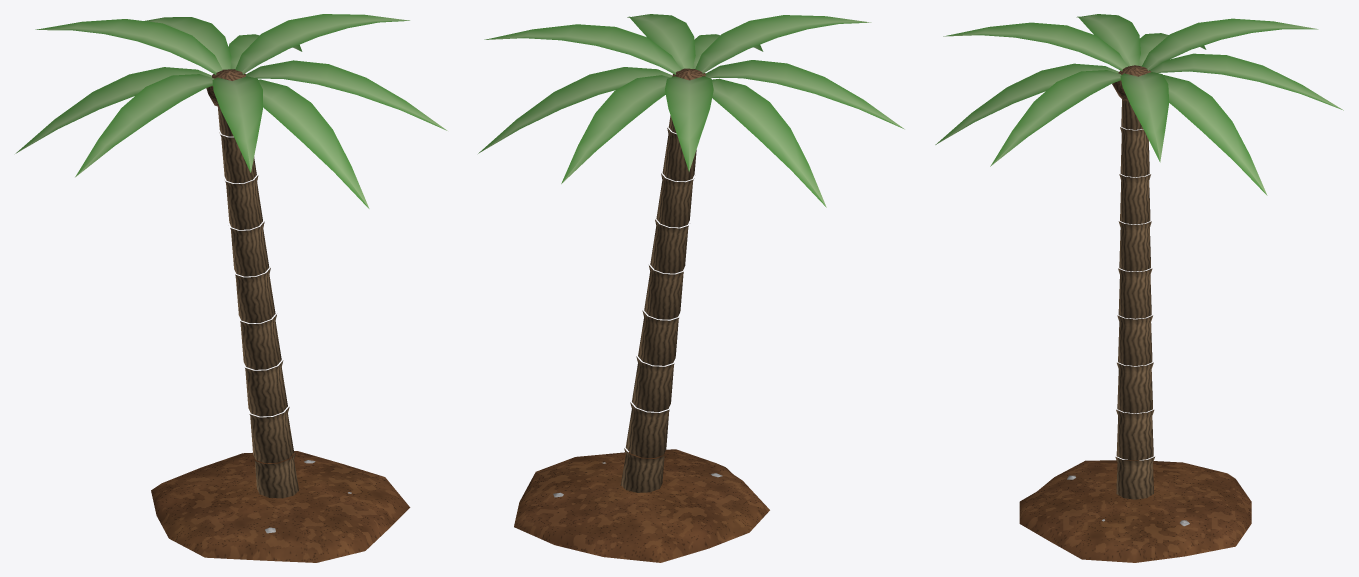
The model's file is plant-coconut-2.glb.
3 views of the same model, side by side, from view 1: azimuth 30°, elevation 25°; view 2: azimuth 150°, elevation 25°; view 3: azimuth 270°, elevation 25° (orthographic). The views are drawn at different scales.
Parts seen in each view (by area): view 1: plant-coconut-2; view 2: plant-coconut-2; view 3: plant-coconut-2.
Part boxes in pixels (x1,y1,x2,y2): plant-coconut-2: (15,14,447,562); plant-coconut-2: (478,14,904,562); plant-coconut-2: (935,14,1343,562).
Bounding box in the file's own units: 1.73 × 2.05 × 1.73.
4 materials, 3 textured.
